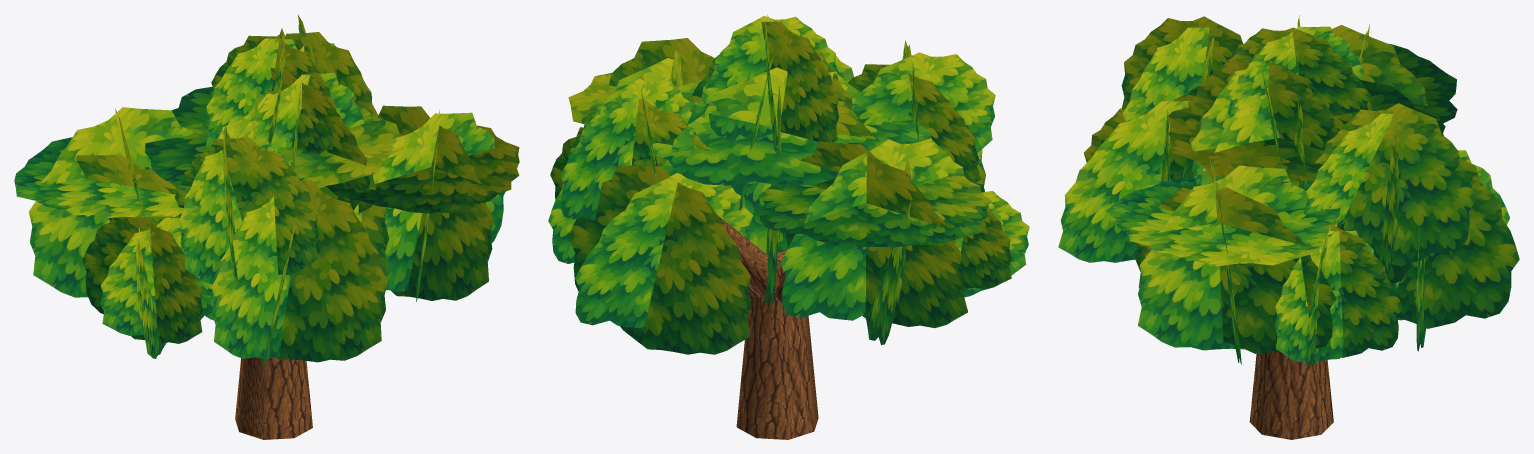
Rendered from ptree_green_wide.glb.
3 views of the same model, side by side, from view 1: azimuth 30°, elevation 25°; view 2: azimuth 150°, elevation 25°; view 3: azimuth 270°, elevation 25° (orthographic). The views are drawn at different scales.
Visible parts, largest first — view 1: leaf, woodBark; view 2: leaf, woodBark; view 3: leaf, woodBark.
Boxes of the visible parts, <box> form: leaf: <box>14,15,519,366</box>; woodBark: <box>235,357,312,439</box>; leaf: <box>548,14,1029,354</box>; woodBark: <box>718,216,818,439</box>; leaf: <box>1058,15,1519,366</box>; woodBark: <box>1249,223,1341,439</box>.
Size of the model in its own units: 1.25 by 1.05 by 1.1.
2 materials, 2 textured.
